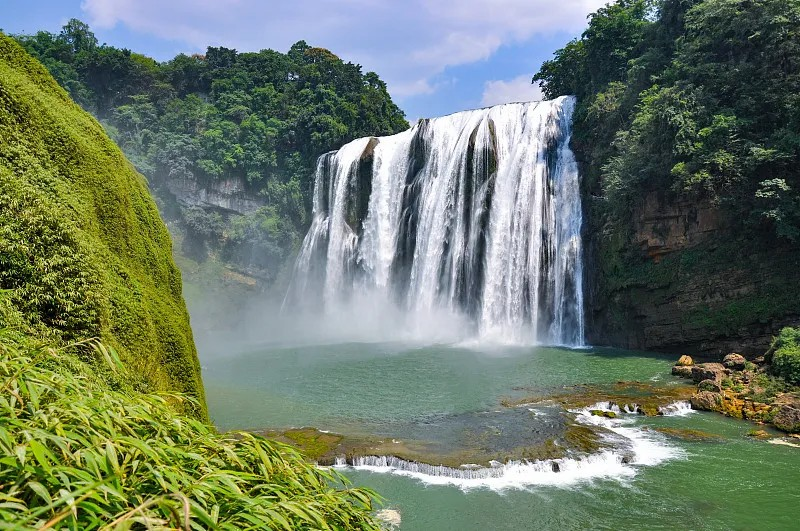Huangguoshu: (296, 96, 587, 350)
